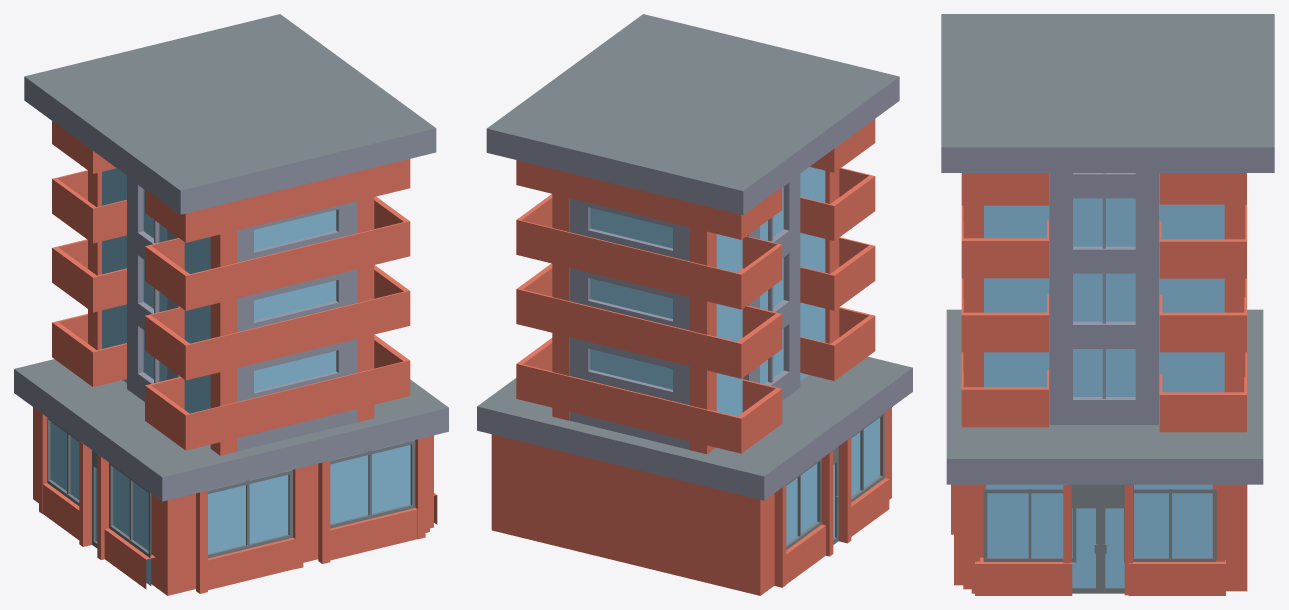
File: putong_zhongxing02.fbx
3 renders of one model, left to right at view 1: azimuth 30°, elevation 25°; view 2: azimuth 150°, elevation 25°; view 3: azimuth 270°, elevation 25°, orthographic. The views are drawn at different scales.
Visible parts, largest first — view 1: putong_zhongxing02005, putong_zhongxing02000, putong_zhongxing02003, putong_zhongxing02002, putong_zhongxing02001, putong_zhongxing02004; view 2: putong_zhongxing02005, putong_zhongxing02000, putong_zhongxing02003, putong_zhongxing02002, putong_zhongxing02001, putong_zhongxing02004; view 3: putong_zhongxing02005, putong_zhongxing02000, putong_zhongxing02003, putong_zhongxing02001, putong_zhongxing02002, putong_zhongxing02004.
Boxes of the visible parts, box(x1,y1,x2,y2) form: putong_zhongxing02005: box(14, 359, 448, 595); putong_zhongxing02000: box(24, 14, 436, 214); putong_zhongxing02003: box(52, 239, 410, 455); putong_zhongxing02002: box(52, 170, 410, 335); putong_zhongxing02001: box(52, 121, 410, 304); putong_zhongxing02004: box(52, 313, 410, 450); putong_zhongxing02005: box(477, 356, 912, 595); putong_zhongxing02000: box(486, 14, 899, 215); putong_zhongxing02003: box(516, 237, 875, 454); putong_zhongxing02002: box(516, 168, 875, 334); putong_zhongxing02001: box(516, 119, 875, 302); putong_zhongxing02004: box(516, 307, 875, 453); putong_zhongxing02005: box(946, 309, 1263, 595); putong_zhongxing02000: box(941, 14, 1274, 172); putong_zhongxing02003: box(961, 278, 1246, 424); putong_zhongxing02001: box(961, 173, 1246, 261); putong_zhongxing02002: box(961, 204, 1246, 297); putong_zhongxing02004: box(961, 352, 1246, 432).
Bounding box in the file's own units: 5.01 × 6.86 × 4.71.
